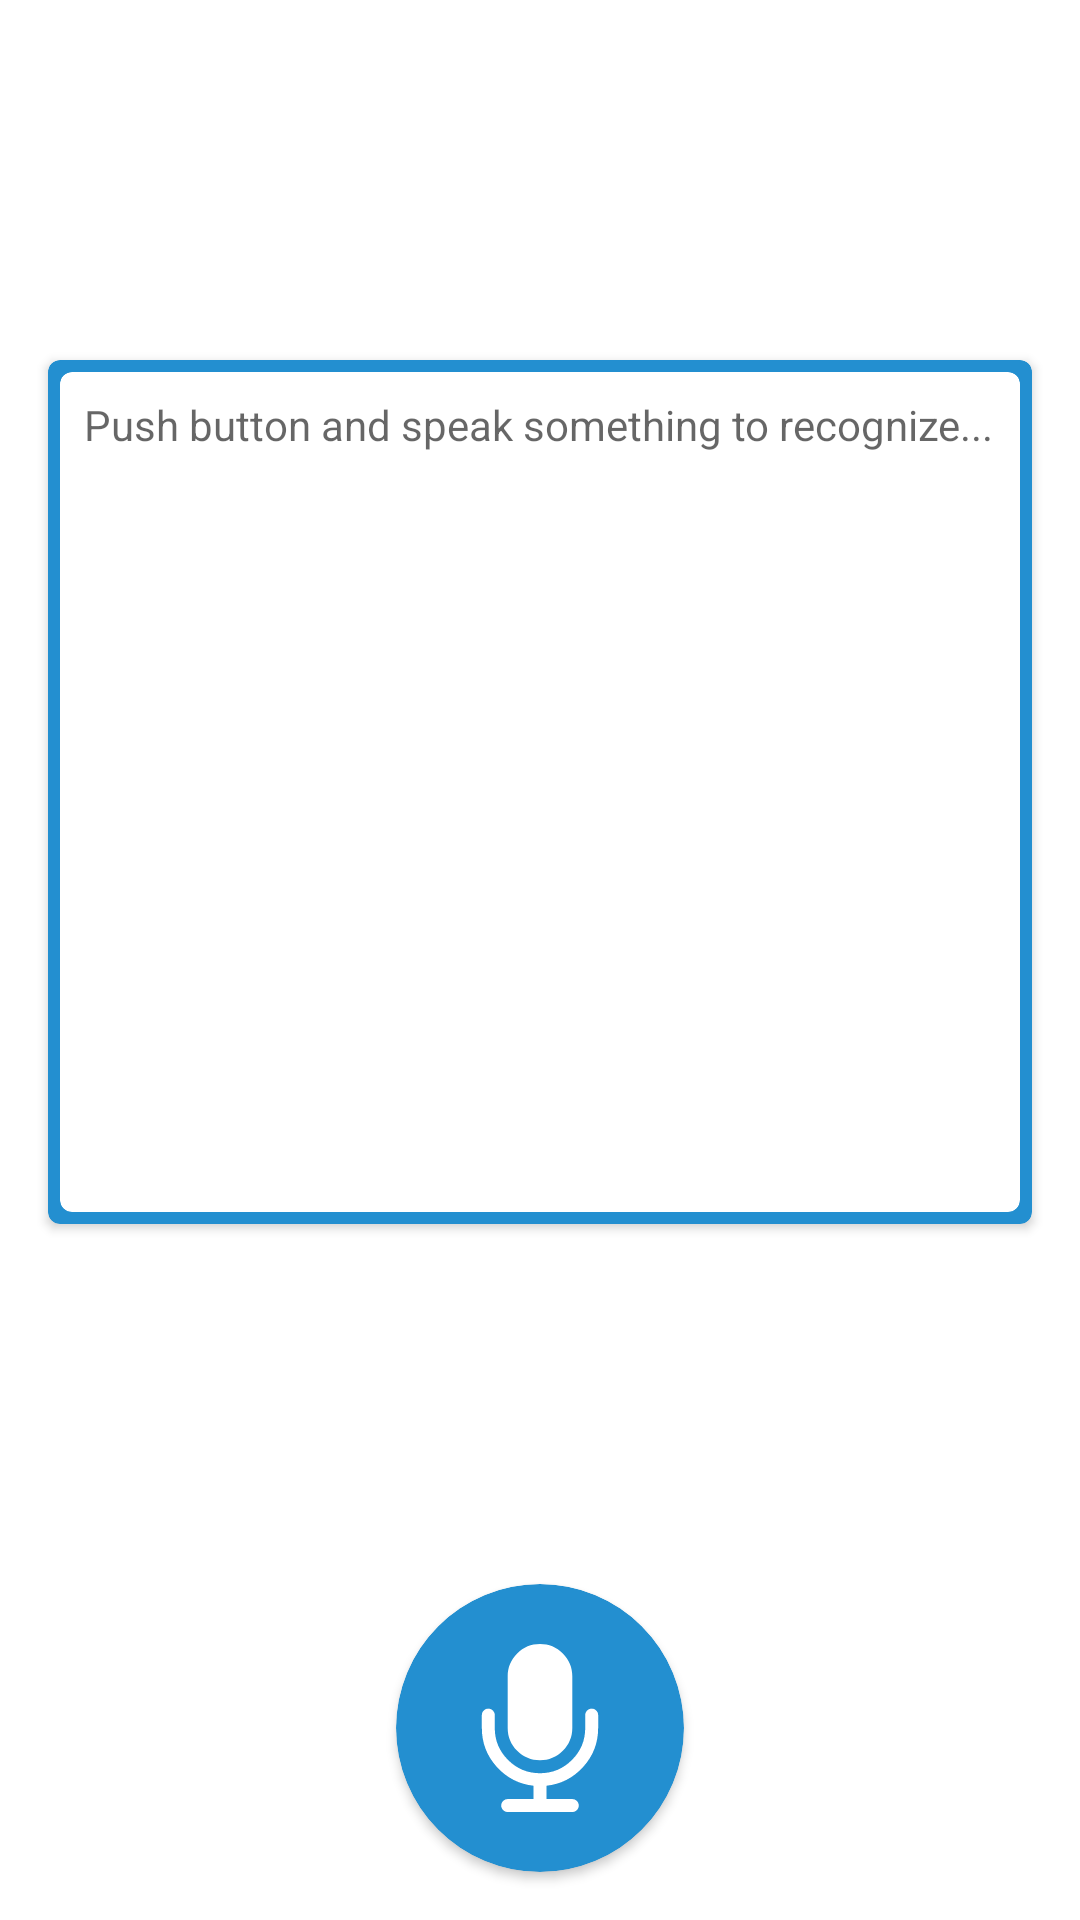

Locate icon controls on the screen. Image size 1080px x 1920px, boxes as bbox=(x1, y1, x2, y2).
microphone: bbox=(481, 1644, 599, 1812)
